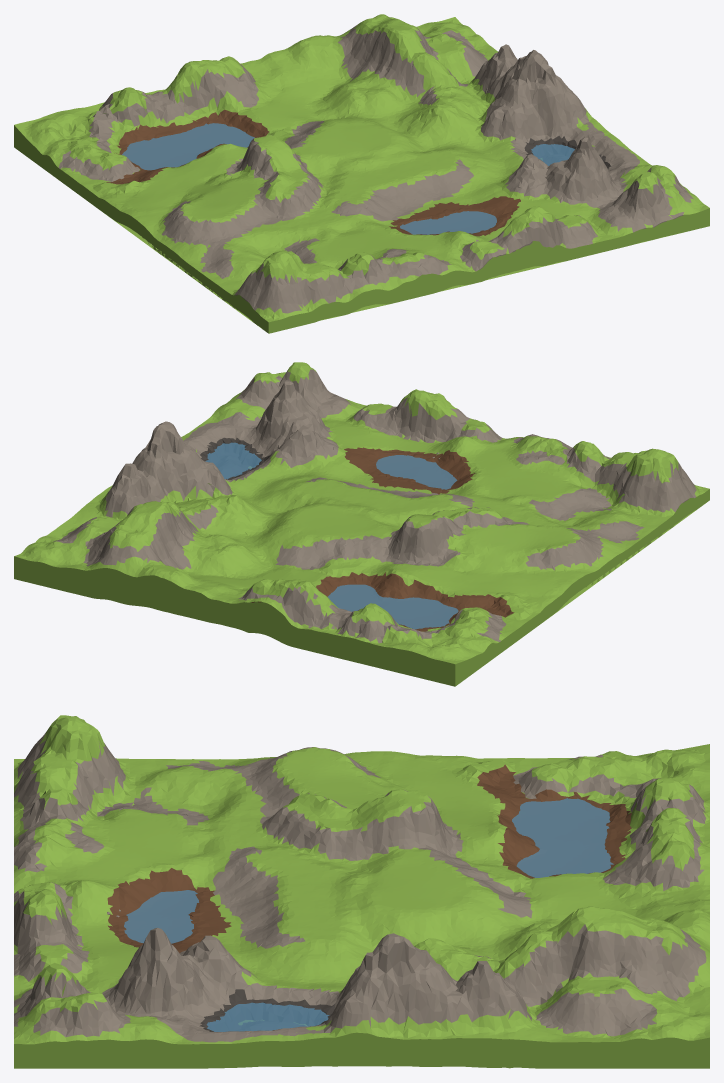
File: pulau.fbx
3 renders of one model, top to bottom at view 1: azimuth 30°, elevation 25°; view 2: azimuth 150°, elevation 25°; view 3: azimuth 270°, elevation 25°, orthographic. The views are drawn at different scales.
Parts seen in each view (by area): view 1: Island_Terrain, Island_Water_01, Island_Water_03, Island_Water_02; view 2: Island_Terrain, Island_Water_01, Island_Water_03, Island_Water_02; view 3: Island_Terrain, Island_Water_01, Island_Water_03, Island_Water_02.
Part boxes in pixels (<box>): Island_Terrain: <box>14,14,709,333</box>; Island_Water_01: <box>122,123,254,170</box>; Island_Water_03: <box>400,211,496,234</box>; Island_Water_02: <box>531,144,574,165</box>; Island_Terrain: <box>14,362,709,686</box>; Island_Water_01: <box>328,584,458,629</box>; Island_Water_03: <box>376,455,457,489</box>; Island_Water_02: <box>205,442,261,479</box>; Island_Terrain: <box>14,715,709,1068</box>; Island_Water_01: <box>512,798,613,877</box>; Island_Water_03: <box>124,890,198,943</box>; Island_Water_02: <box>206,1002,329,1031</box>.
Bounding box in the file's own units: 800 × 139 × 800.
